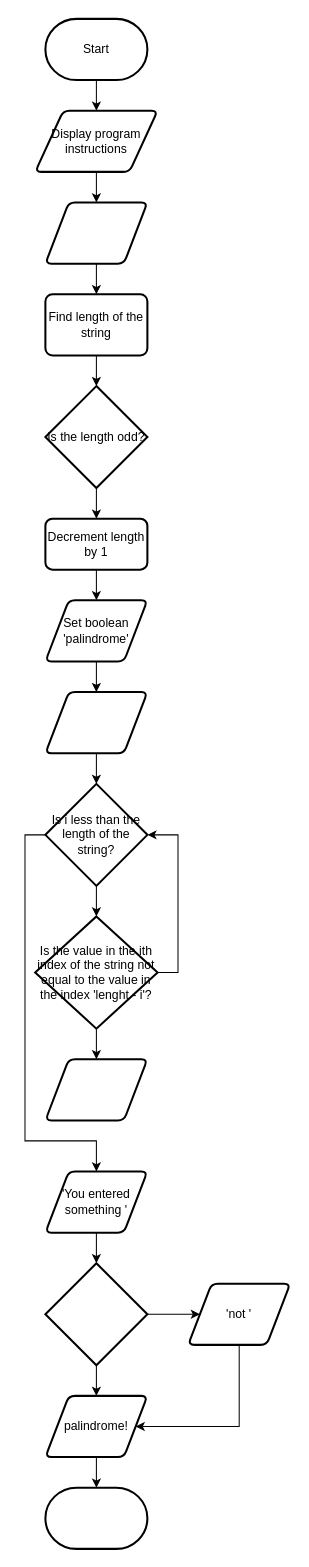
Some shapes in this 309 by 1567 pixel diagram are drawn without their labels. The centre of each missing label's shape, as x and y in pixels:
"Ask user to enter a string" goes at [96,232].
"End" goes at [96,1517].
"Is palindrome true?" goes at [96,1314].
"Set counter i with initial value 0" goes at [96,722].
"Set palindrome to 'false'" goes at [96,1089].
